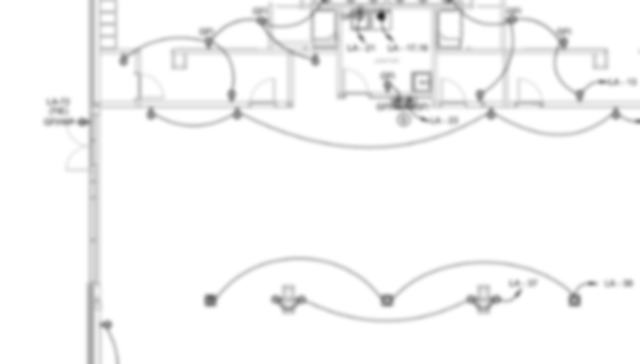door: (135, 72, 167, 100), (514, 77, 546, 105), (341, 67, 372, 94), (247, 77, 278, 103), (438, 75, 465, 104)
double door: (64, 119, 93, 172)
